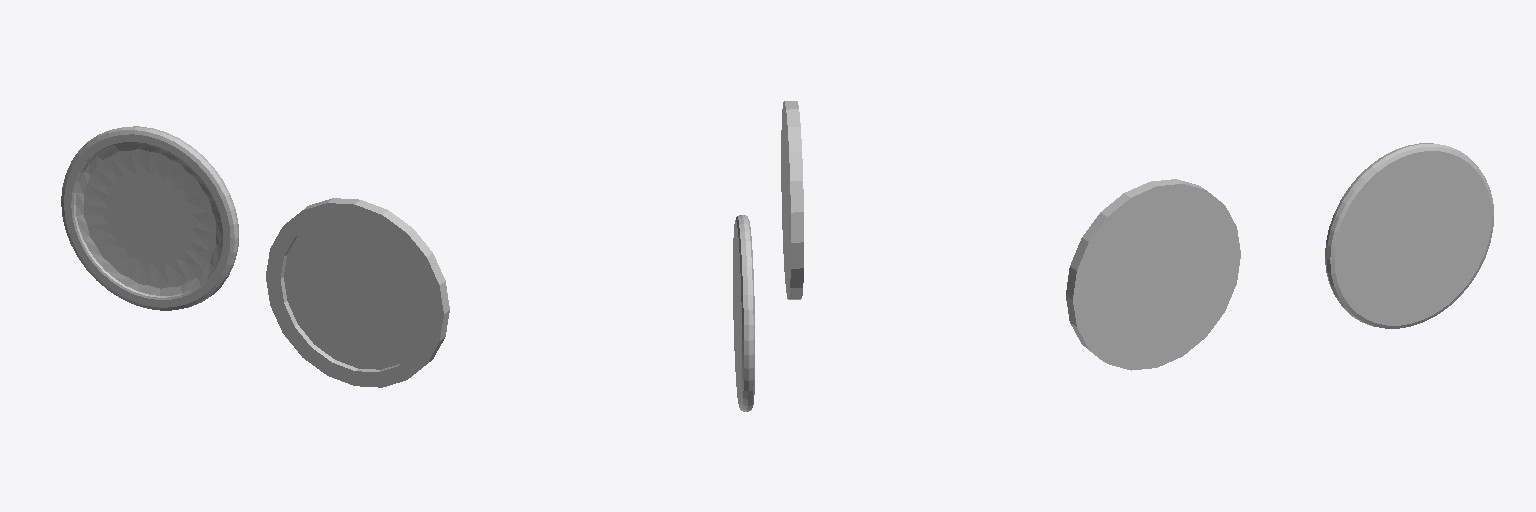
Rendered from clocks.obj.
3 views of the same model, side by side, from view 1: azimuth 30°, elevation 25°; view 2: azimuth 150°, elevation 25°; view 3: azimuth 270°, elevation 25° (orthographic).
Visible parts, largest first — view 1: Clock1 polySurface76, Clock polySurface78, polySurface77 Clock, polySurface75 Clock1; view 2: polySurface77 Clock, polySurface75 Clock1; view 3: polySurface77 Clock, polySurface75 Clock1.
Part boxes in pixels (x1,y1,x2,y2): Clock1 polySurface76: (75,144,221,295); Clock polySurface78: (284,218,428,369); polySurface77 Clock: (266,198,449,387); polySurface75 Clock1: (61,126,238,310); polySurface77 Clock: (781,101,803,299); polySurface75 Clock1: (733,215,754,411); polySurface77 Clock: (1066,179,1240,370); polySurface75 Clock1: (1325,143,1493,328).
Bounding box in the file's own units: 62.45 × 59.94 × 128.